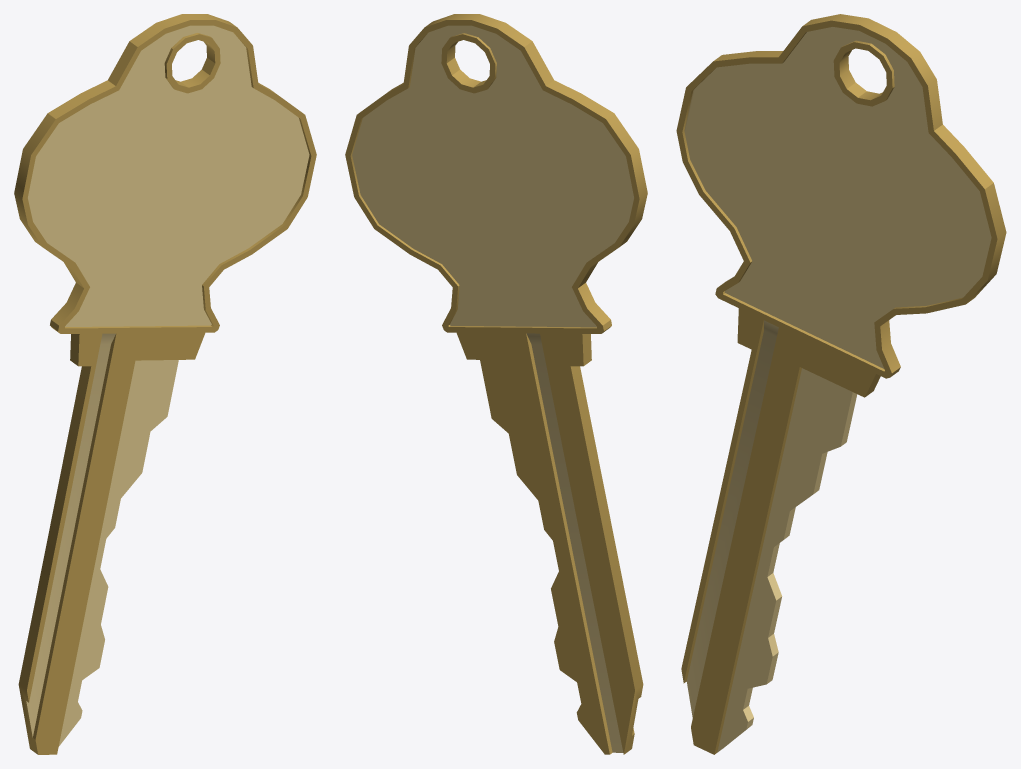
File: Key_1.fbx
The picture shows the model from 3 angles, left to right: view 1: azimuth 30°, elevation 25°; view 2: azimuth 150°, elevation 25°; view 3: azimuth 330°, elevation 25°; orthographic projection. The views are drawn at different scales.
Visible parts, largest first — view 1: Key1.001; view 2: Key1.001; view 3: Key1.001.
Boxes of the visible parts, left/top/right/bottom form: Key1.001: left=14, top=14, right=316, bottom=754; Key1.001: left=345, top=14, right=647, bottom=754; Key1.001: left=676, top=14, right=1006, bottom=754.
Size of the model in its own units: 0.4816 by 1.1 by 0.0233.
